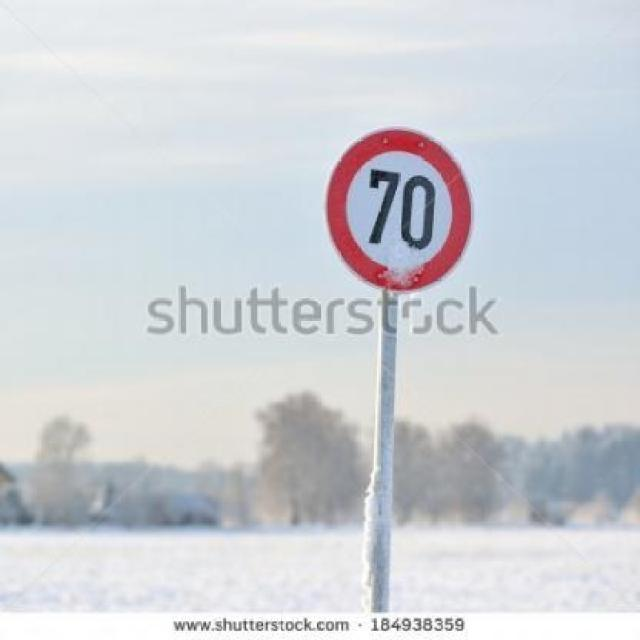forb_speed_over_70: (330, 124, 470, 290)
